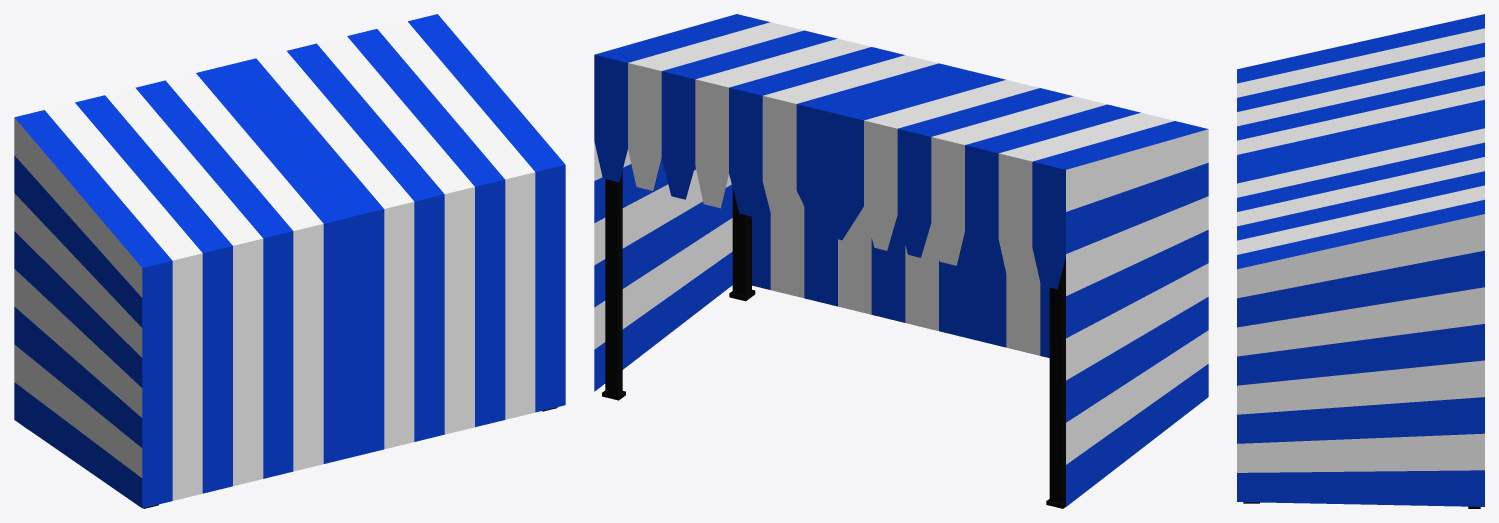
Rendered from petiteechopebleu.fbx.
The picture shows the model from 3 angles, left to right: view 1: azimuth 30°, elevation 25°; view 2: azimuth 150°, elevation 25°; view 3: azimuth 270°, elevation 25°; orthographic projection. The views are drawn at different scales.
Visible parts, largest first — view 1: petiteechopebleu; view 2: petiteechopebleu; view 3: petiteechopebleu.
Boxes of the visible parts, x1,y1,x2,y2 form: petiteechopebleu: (14, 14, 565, 508); petiteechopebleu: (594, 14, 1208, 508); petiteechopebleu: (1237, 14, 1484, 508).
Bounding box in the file's own units: 1154 × 800 × 604.
